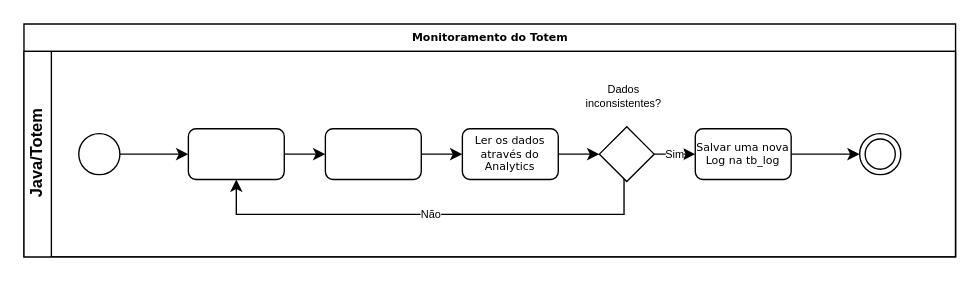
Some shapes in this 980 by 281 pixel diagram are drawn without their labels. The centre of each missing label's shape, as x and y in pixels:
"Capturar informações de Hardware via OSHI" belongs at point (235, 153).
"Inserir captura no Banco de Dados" belongs at point (372, 153).
